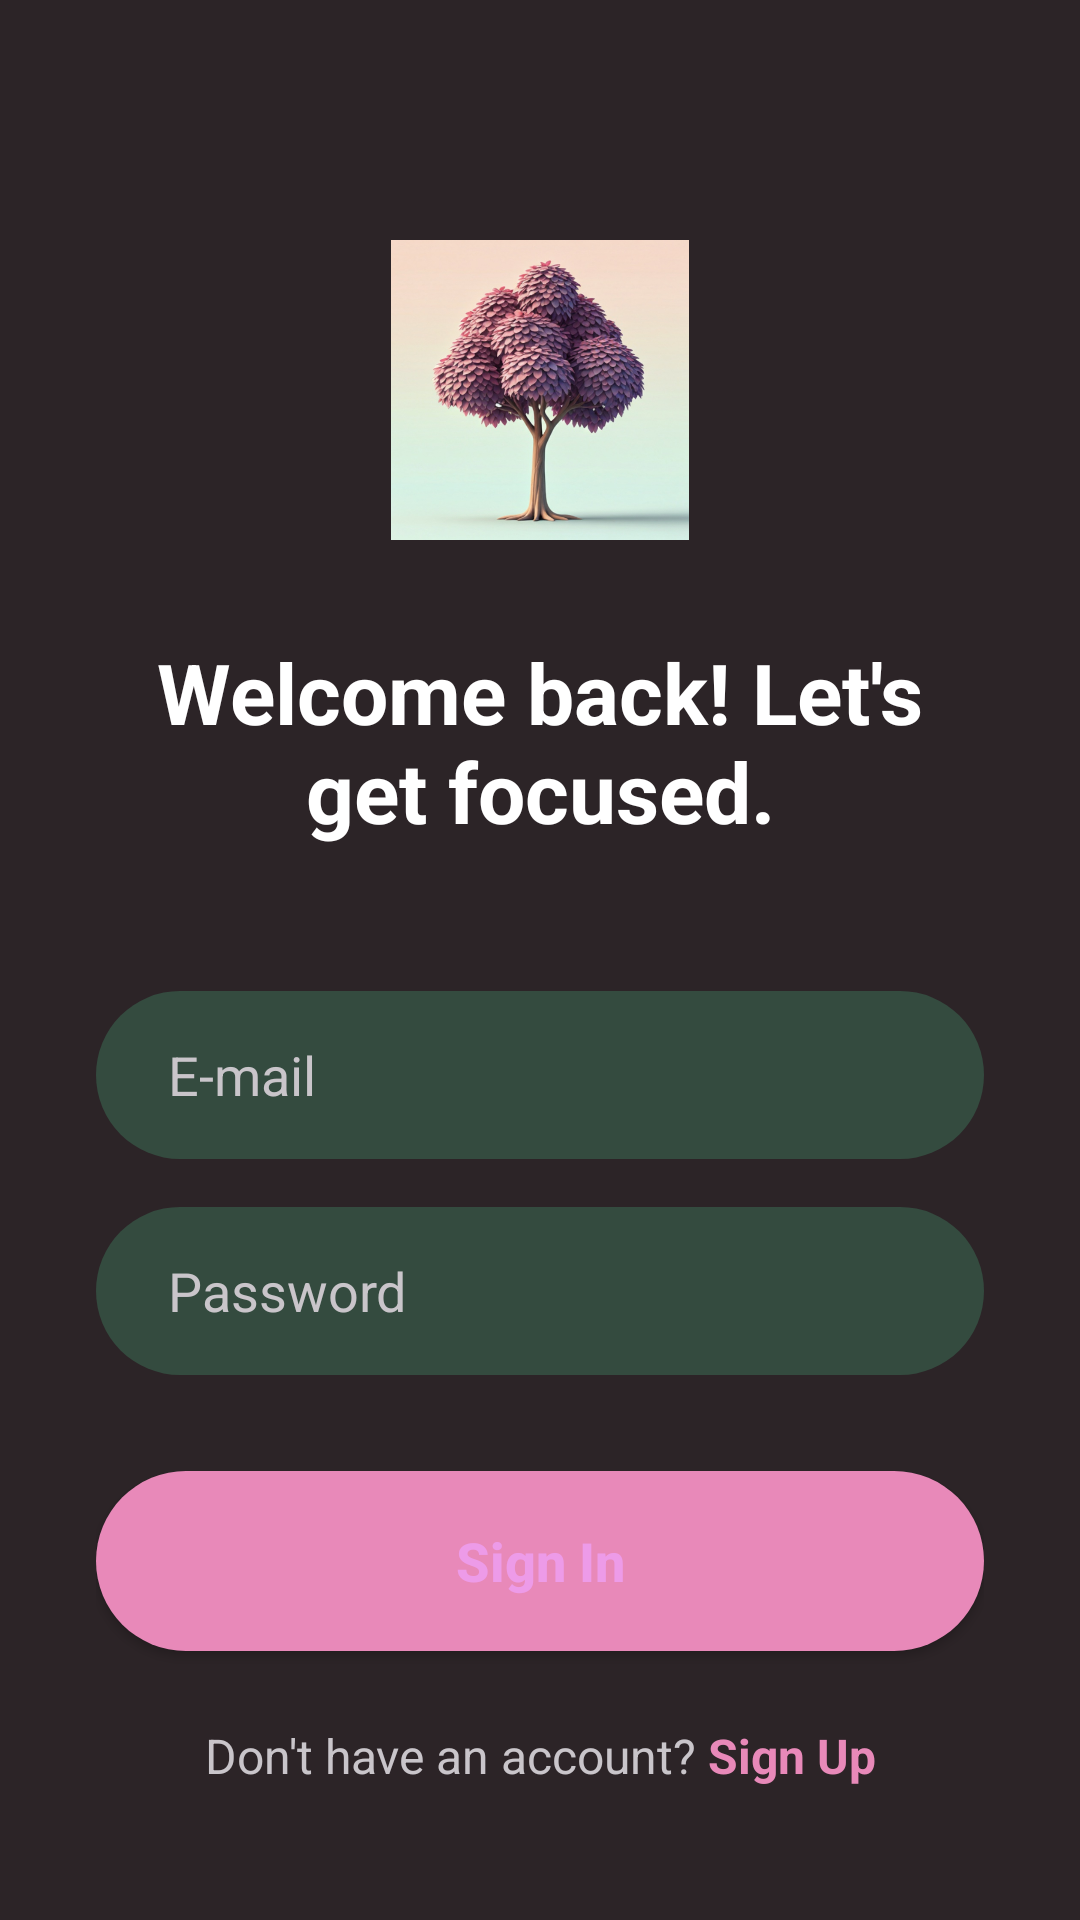

Icon click points for this 1080×1920 phone screenshot, format point (x, y):
focus tree: point (540, 390)
